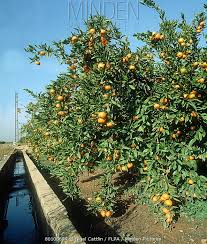orange: (161, 191, 172, 201), (96, 112, 107, 120)
